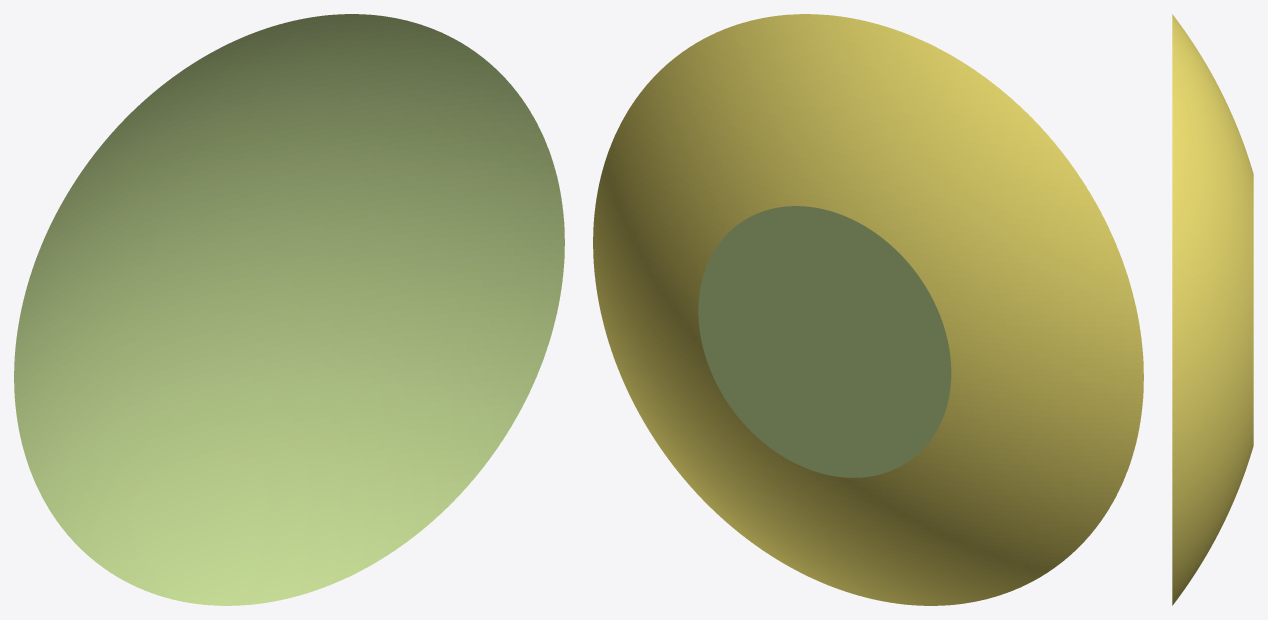
The model's file is dish.glb.
3 renders of one model, left to right at view 1: azimuth 30°, elevation 25°; view 2: azimuth 150°, elevation 25°; view 3: azimuth 270°, elevation 25°, orthographic. The views are drawn at different scales.
Visible parts, largest first — view 1: node_0; view 2: node_0; view 3: node_0.
Part boxes in pixels (x1,y1,x2,y2): node_0: (14,14,564,605); node_0: (593,14,1143,605); node_0: (1172,14,1253,605).
Size of the model in its own units: 60.96 by 60.96 by 8.37.
